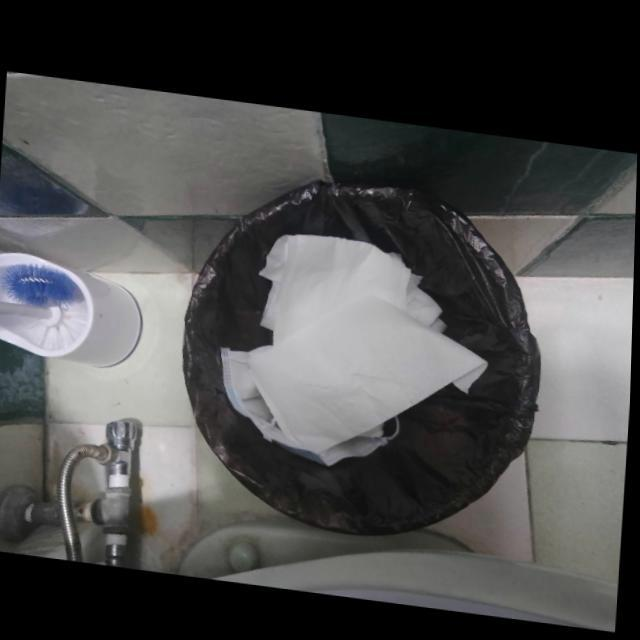paper: (249, 289, 490, 447), (260, 227, 448, 338)
